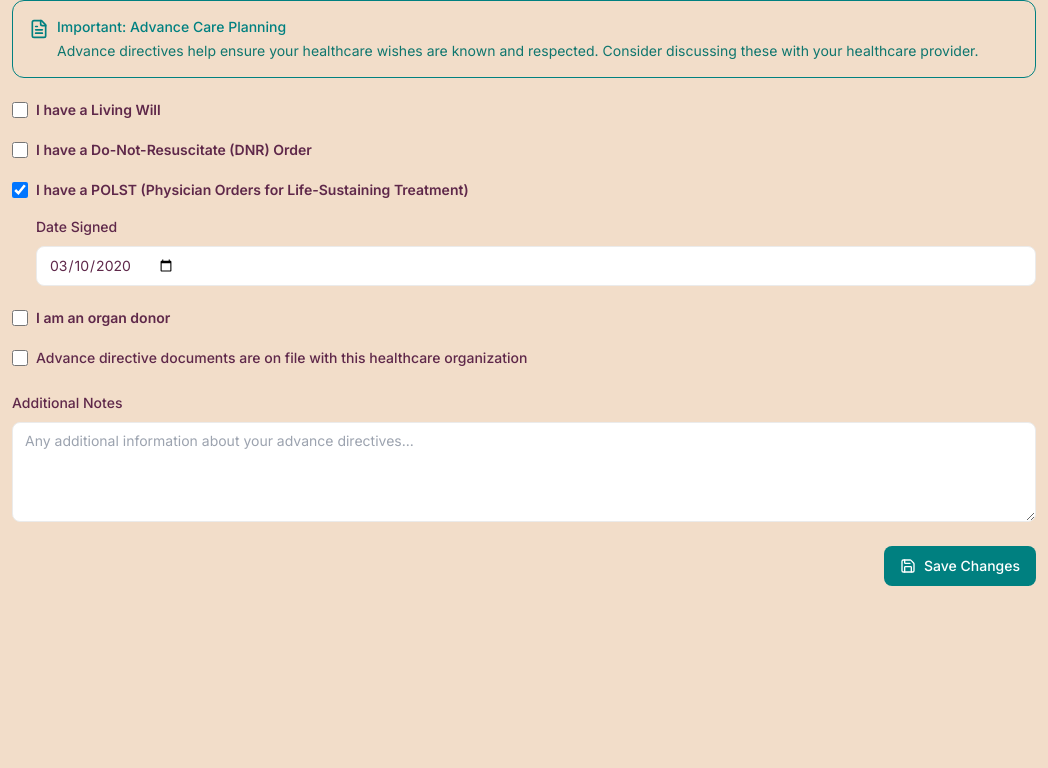
Test case: AdvanceDirectivesForm › POLST › should hide date field when POLST is unchecked
Expected: the date field labelled "Date Signed" is shown, [36,246,1036,286]
Click the checkbox labelled "I have a POLST".
click(20, 190)  # box [12,182,28,198]
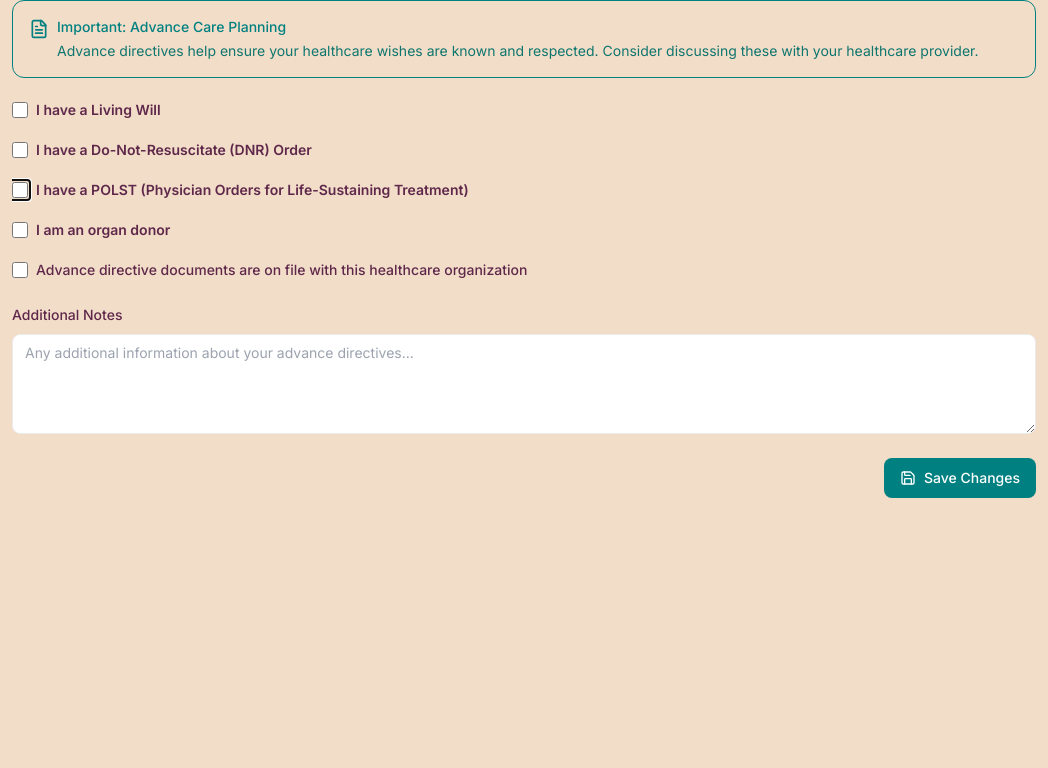
Result: no labels labelled "Date Signed" are shown
